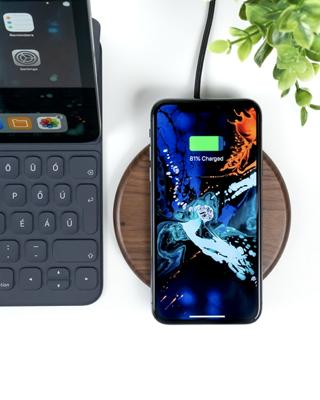Mobile Phone: (0, 0, 104, 307), (148, 97, 263, 325)
